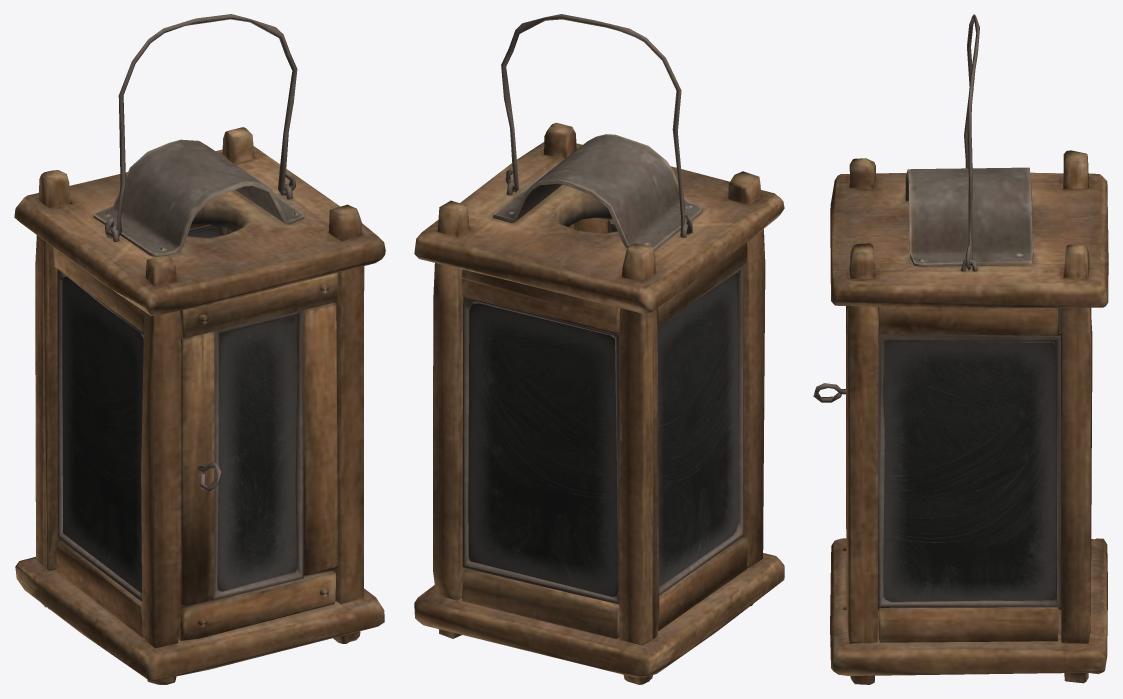
File: wooden_lantern_01.glb
3 views of the same model, side by side, from view 1: azimuth 30°, elevation 25°; view 2: azimuth 150°, elevation 25°; view 3: azimuth 270°, elevation 25° (orthographic).
Parts seen in each view (by area): view 1: wooden_lantern_01; view 2: wooden_lantern_01; view 3: wooden_lantern_01.
Part boxes in pixels (left/top/right/bottom): wooden_lantern_01: left=14, top=14, right=385, bottom=684; wooden_lantern_01: left=414, top=14, right=784, bottom=684; wooden_lantern_01: left=813, top=14, right=1108, bottom=684.
Bounding box in the file's own units: 0.221 × 0.5296 × 0.2341.
2 materials, 2 textured.
